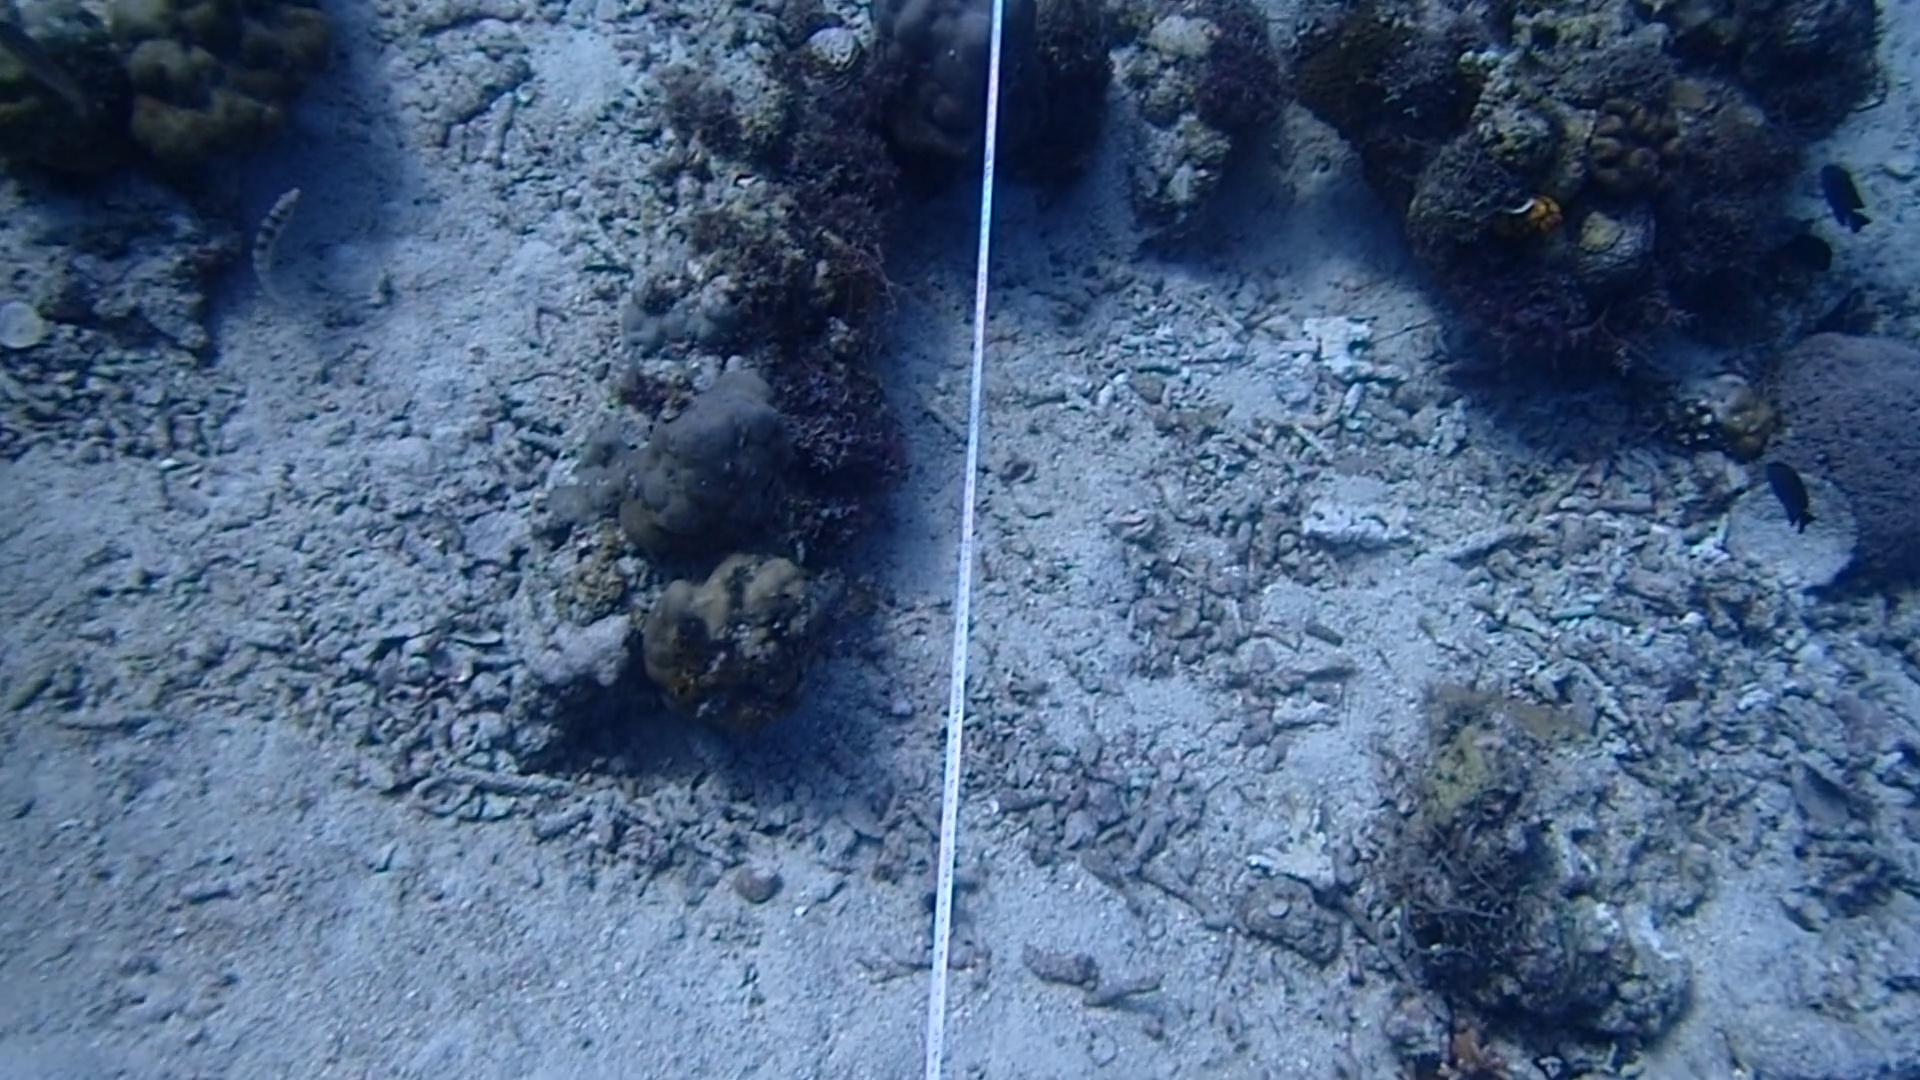Dark Fish: (1812, 152, 1878, 237), (1772, 210, 1850, 280), (1763, 450, 1812, 539)
Light Fish w Back Stripes: (228, 175, 322, 316)
